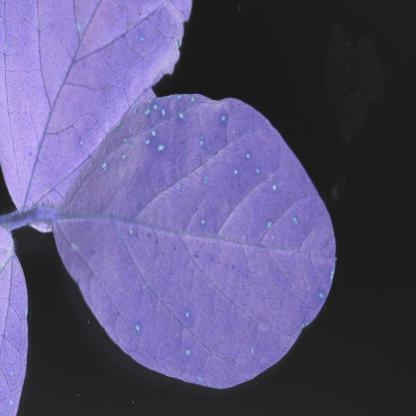Soyabean leaf: (50, 91, 336, 390)
